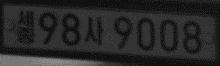0: (135, 17, 156, 52), (158, 17, 179, 52)
8: (61, 12, 81, 47), (182, 19, 202, 54)
9: (113, 15, 134, 48), (38, 11, 58, 45)
사: (84, 16, 105, 46)
세종_V: (16, 9, 35, 45)
